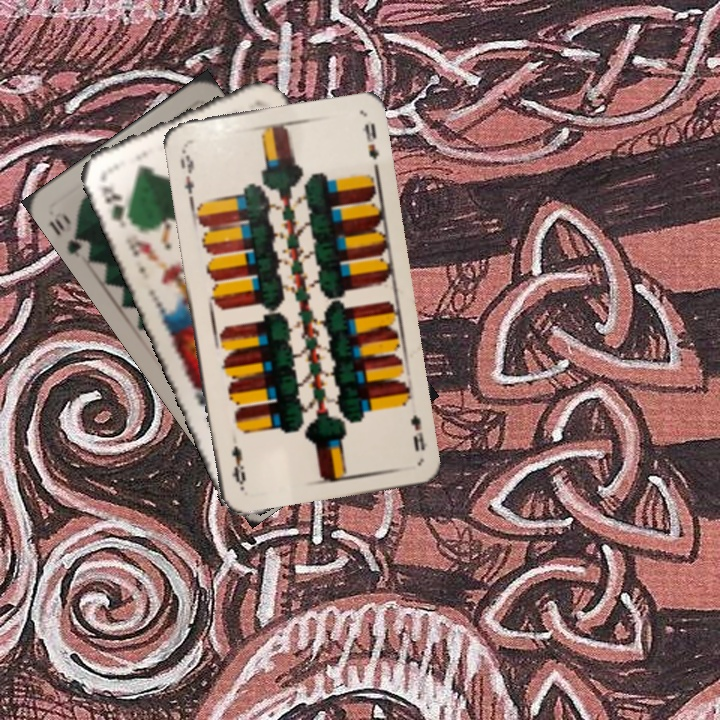E9: (176, 144, 197, 202), (406, 410, 430, 455)
G10: (45, 208, 94, 261)
GK: (97, 181, 135, 230)
